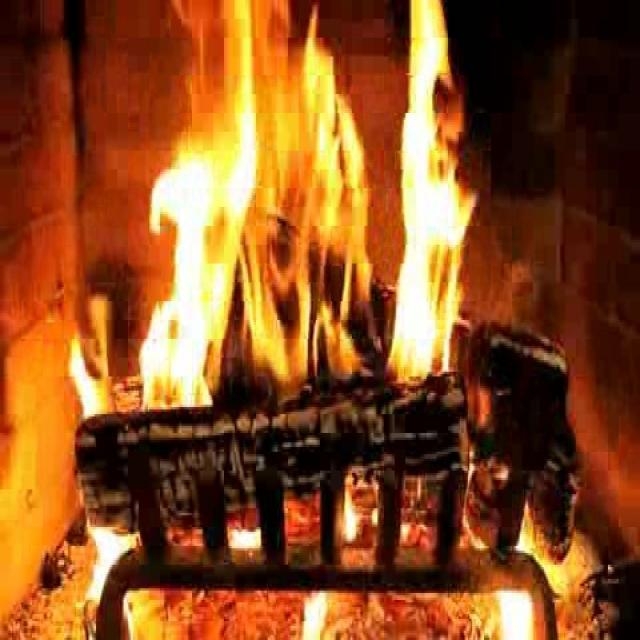Fire: (129, 13, 477, 439)
